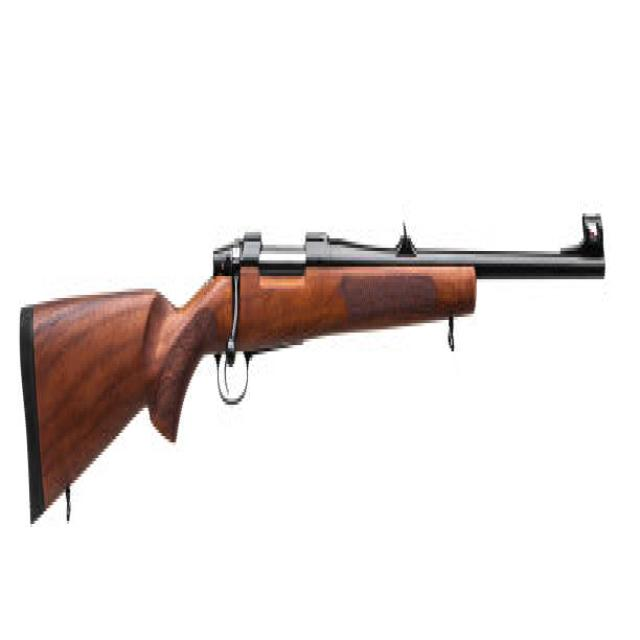rifle: (19, 201, 614, 547)
